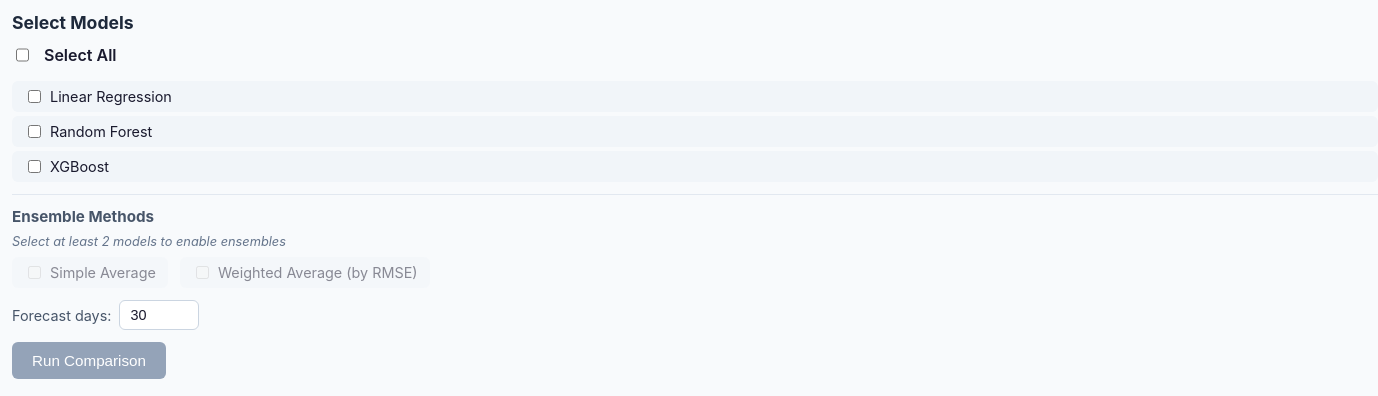
Scenario: ModelSelector › enables ensemble checkboxes when 2+ models selected
This screenshot has width=1378, height=396.
Click the text "Linear Regression" at (100, 96), box [28, 88, 172, 105]
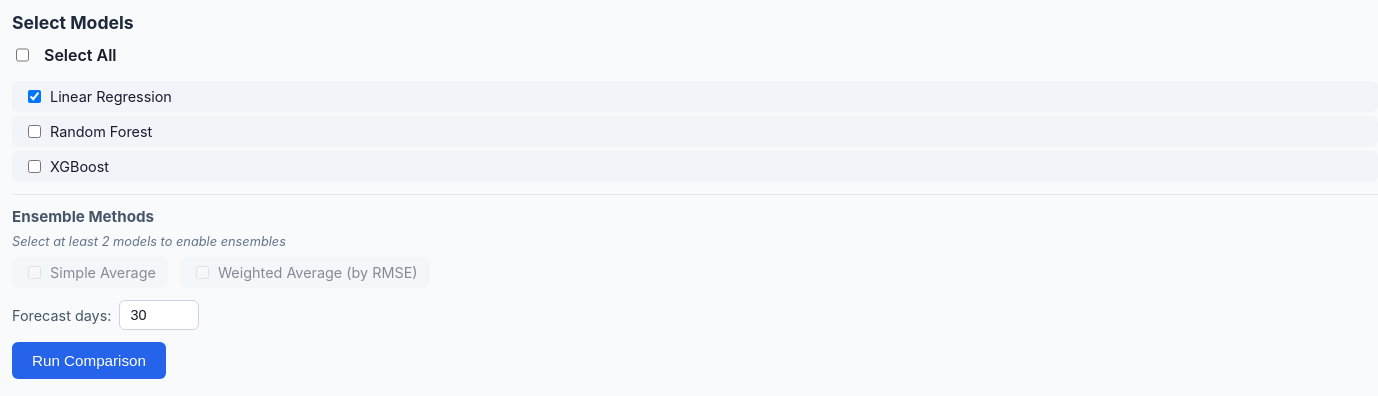
Click the text "Random Forest" at (90, 132), box [28, 123, 152, 140]
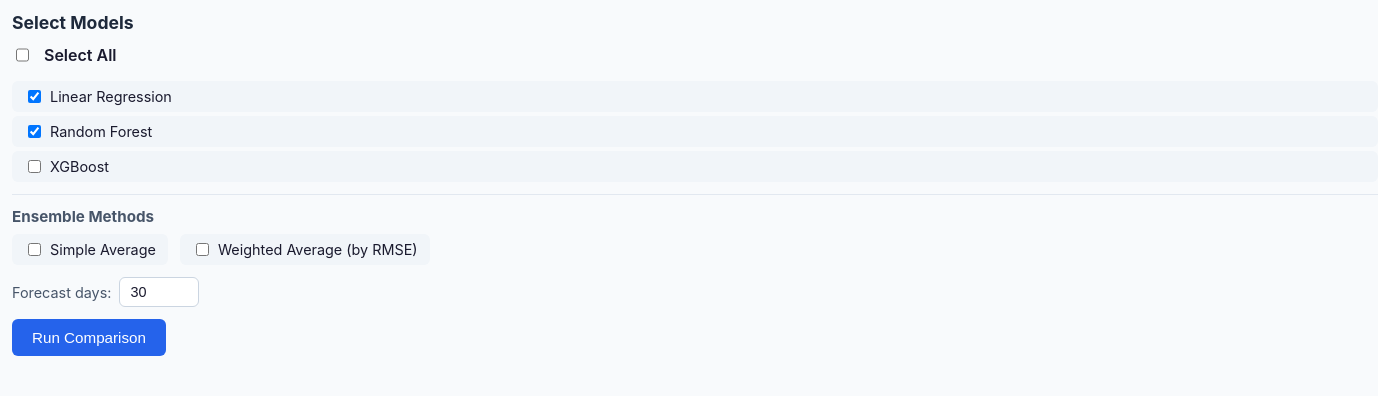
Expected: the text "Select at least 2 models" is gone
